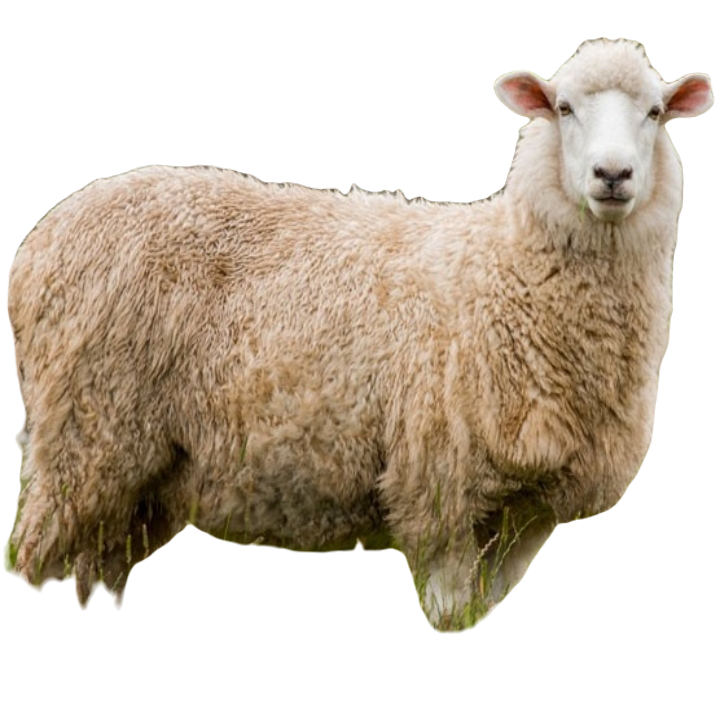Sheep: (0, 33, 718, 636)
